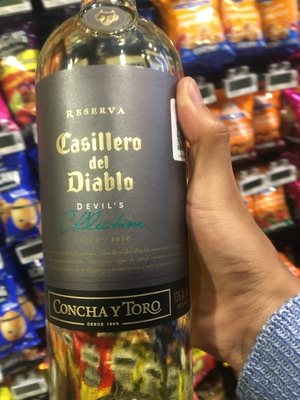casillero del diablo devils collection verde: (31, 20, 202, 400)
